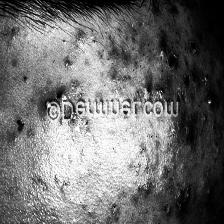Non-Cancerous Skin Condition: (42, 4, 224, 102), (120, 122, 224, 215)
